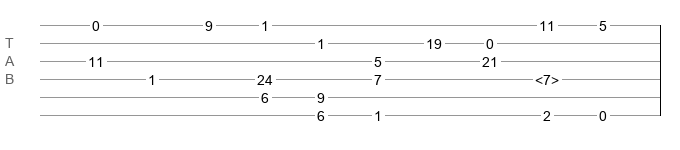0: (92, 18, 100, 28), (486, 36, 494, 46), (599, 108, 607, 118)
1: (148, 72, 156, 82), (261, 18, 269, 28), (317, 36, 325, 46), (374, 108, 382, 118)
11: (88, 54, 104, 64), (539, 18, 555, 28)
19: (426, 36, 442, 46)
2: (543, 108, 551, 118)
21: (482, 54, 498, 64)
24: (257, 72, 273, 82)
5: (374, 54, 382, 64), (599, 18, 607, 28)
6: (261, 90, 269, 100), (317, 108, 325, 118)
7: (374, 72, 382, 82)
9: (205, 18, 213, 28), (317, 90, 325, 100)
harmonic: (535, 72, 559, 82)
